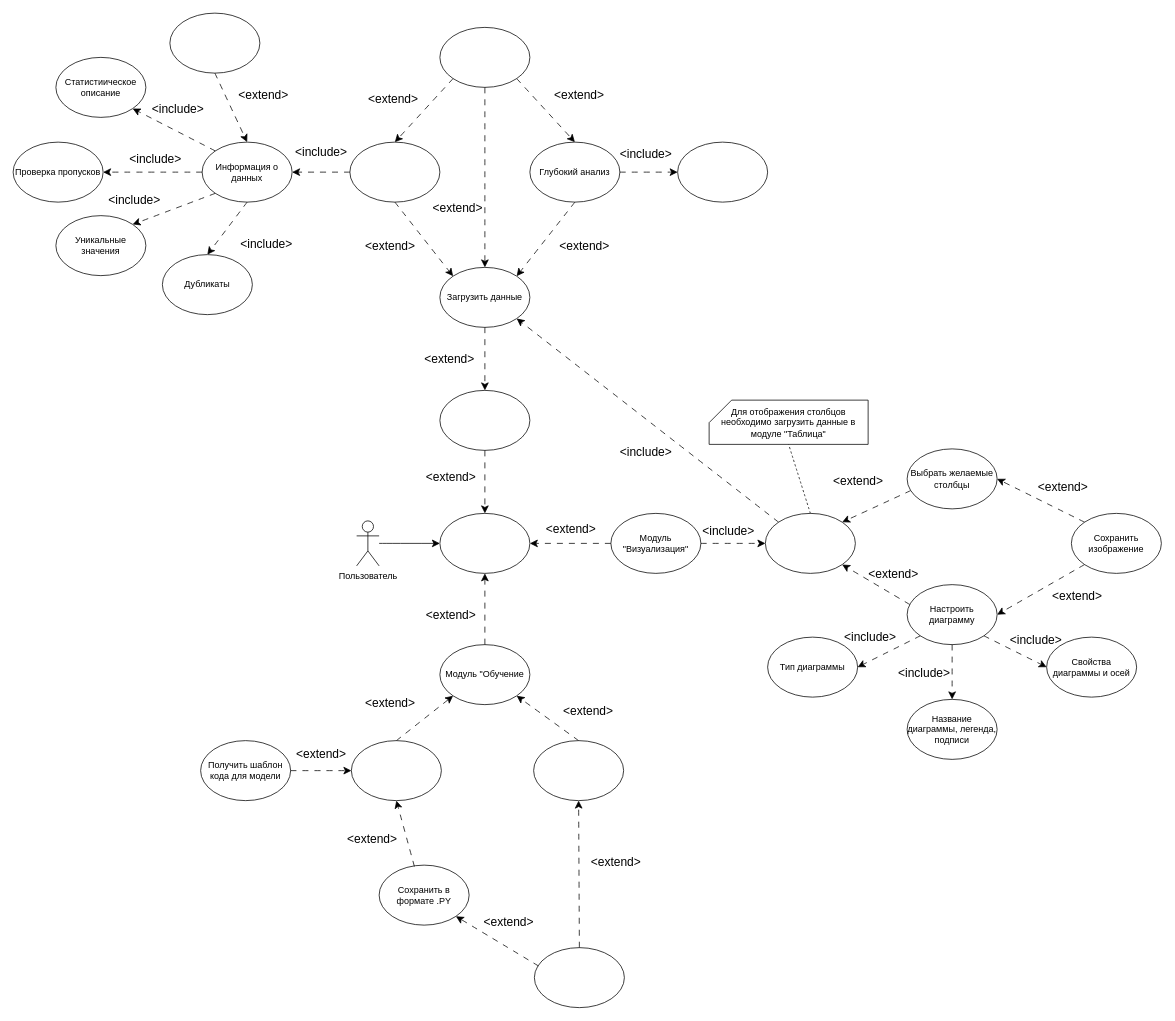
This 1175x1021 diagram has some shape labels left out. The shapes that lost their labels are listed below. From the top down, each one's centre as x and y in pixels, then its label:
point 214,42: Редактирование данных
point 484,57: Сохранить таблицу
point 394,171: Анализ
point 722,171: Сохранение файла полной информации
point 484,420: Модуль "Таблица"
point 484,543: Запуск ИС
point 810,543: Получить информацию о столбцах таблицы
point 396,770: Написать код Python
point 578,770: Загрузить файл .PY
point 579,977: Запустить код Python
